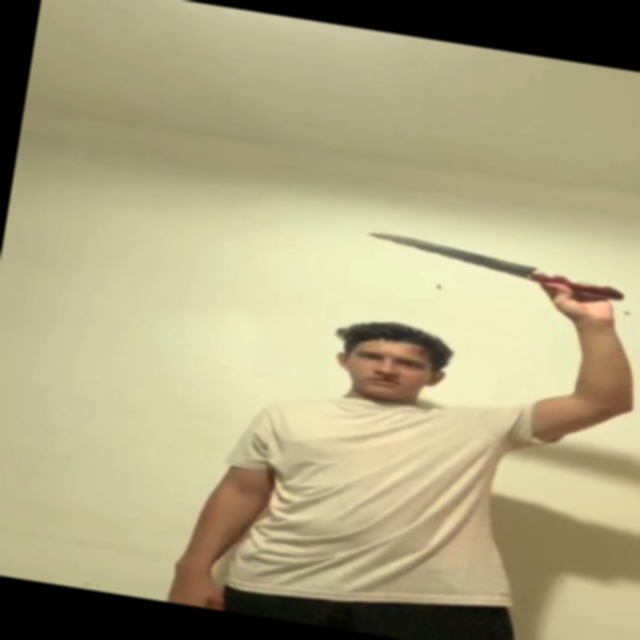Sharp-Object: (368, 229, 544, 281)
